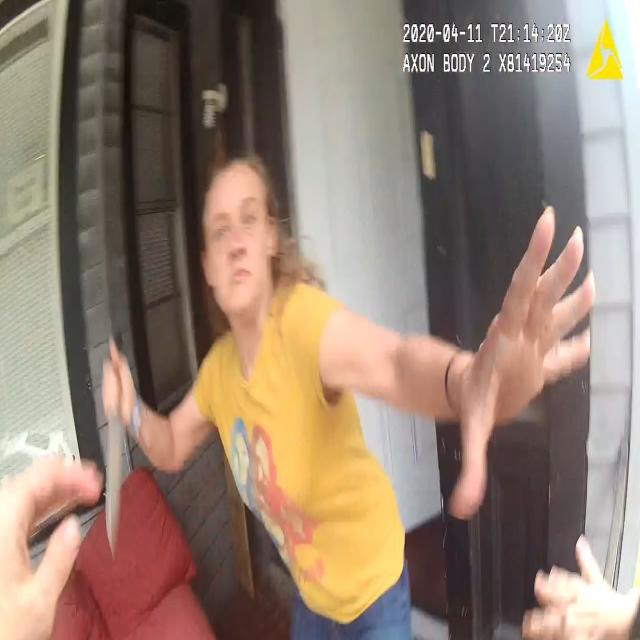Knife_Handle: (100, 335, 135, 557)
